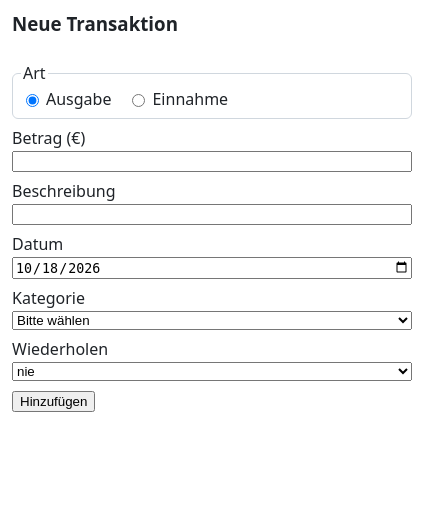
TransactionForm › shows required-field messages and does not submit an empty form
The width and height of the screenshot is (429, 525).
Clear the date field labelled "Datum". click: (212, 268)
box: [12, 257, 412, 279]
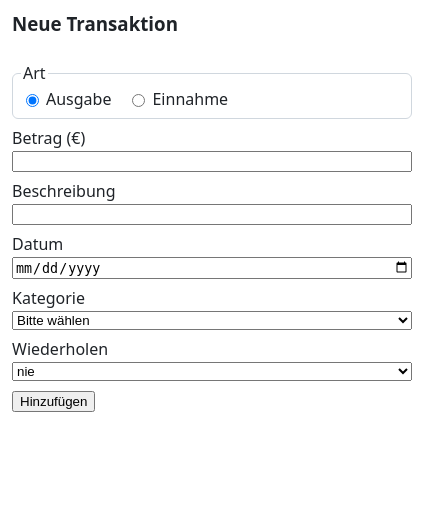
Click the button "Hinzufügen". click: (54, 401)
box: [12, 391, 95, 412]
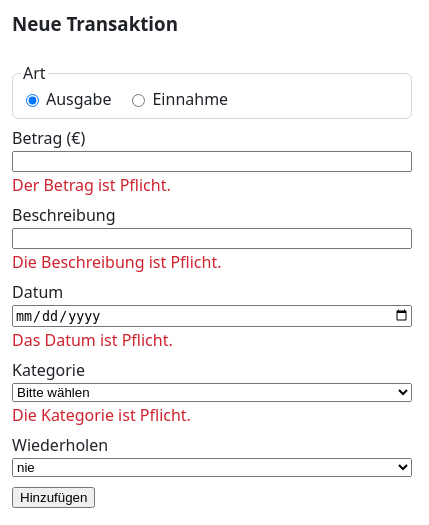
Check: the text "Der Betrag ist Pflicht." is shown, box [12, 174, 171, 196]
Check: the text "Die Beschreibung ist Pflicht." is shown, box [12, 251, 222, 273]
Check: the text "Das Datum ist Pflicht." is shown, box [12, 329, 173, 351]
